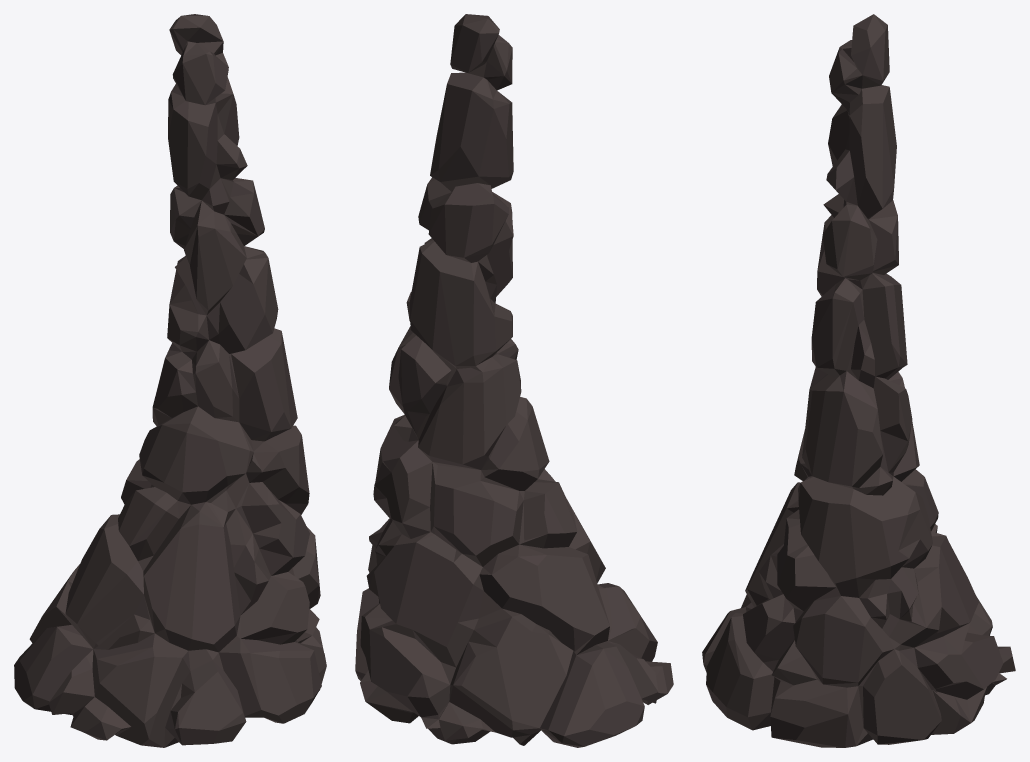
The model's file is Stone02.fbx.
3 views of the same model, side by side, from view 1: azimuth 30°, elevation 25°; view 2: azimuth 150°, elevation 25°; view 3: azimuth 270°, elevation 25° (orthographic). The views are drawn at different scales.
Visible parts, largest first — view 1: Cylinder.006; view 2: Cylinder.006; view 3: Cylinder.006.
Part boxes in pixels (left/top/right/bottom): Cylinder.006: left=14, top=14, right=326, bottom=747; Cylinder.006: left=355, top=14, right=673, bottom=747; Cylinder.006: left=702, top=14, right=1015, bottom=747.
Bounding box in the file's own units: 100 × 237 × 98.
